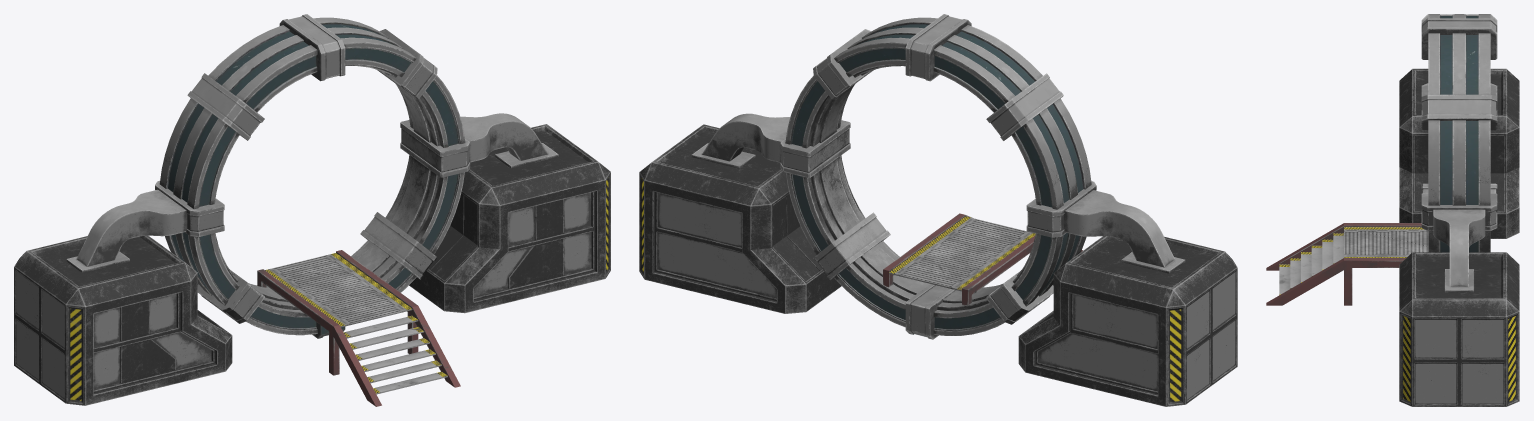
The model's file is portal.glb.
The picture shows the model from 3 angles, left to right: view 1: azimuth 30°, elevation 25°; view 2: azimuth 150°, elevation 25°; view 3: azimuth 270°, elevation 25°; orthographic projection. The views are drawn at different scales.
Visible parts, largest first — view 1: side_housing, clamps, walkway; view 2: side_housing, clamps, walkway; view 3: side_housing, clamps, walkway.
Boxes of the visible parts, x1,y1,x2,y2 form: side_housing: [14, 113, 610, 405]; clamps: [155, 14, 470, 338]; walkway: [257, 250, 460, 406]; side_housing: [639, 113, 1237, 406]; clamps: [780, 14, 1096, 339]; walkway: [883, 213, 1082, 305]; side_housing: [1399, 68, 1519, 406]; clamps: [1421, 14, 1497, 252]; walkway: [1266, 223, 1428, 305].
Size of the model in its own units: 10.01 by 5.15 by 4.42.
Materials: 3 (3 with a texture image).
